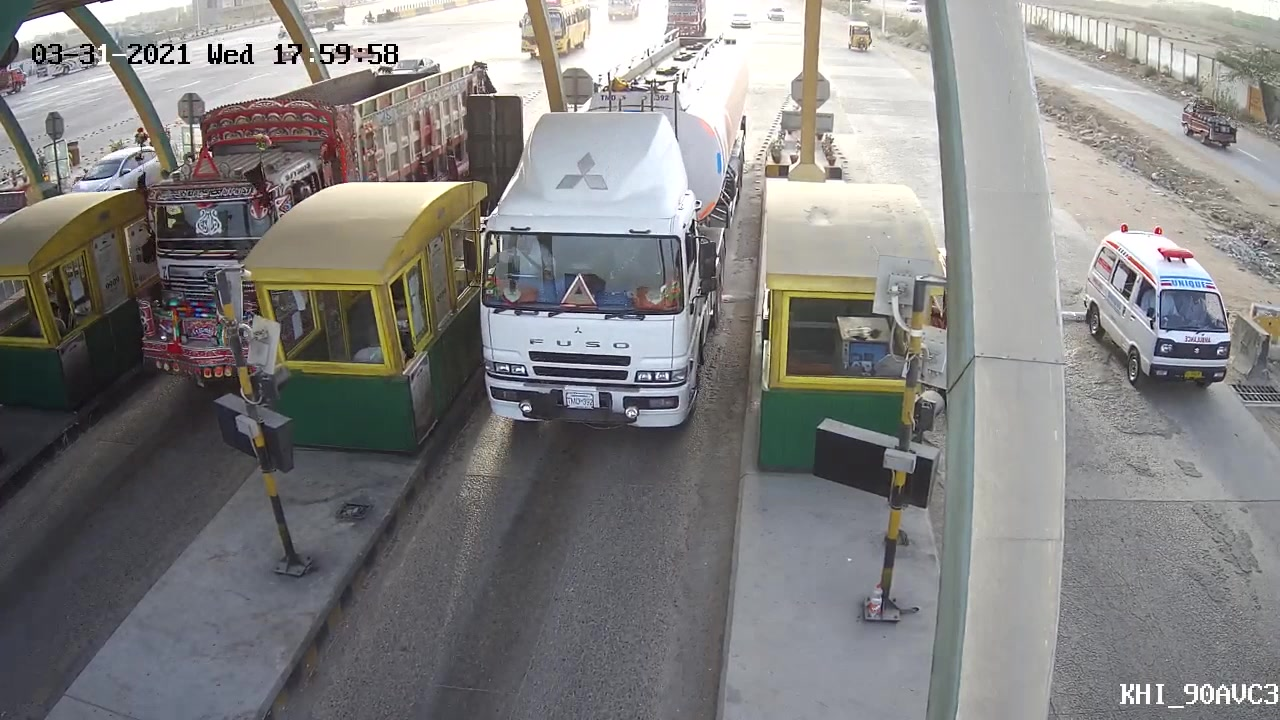F6: (459, 38, 760, 439)
